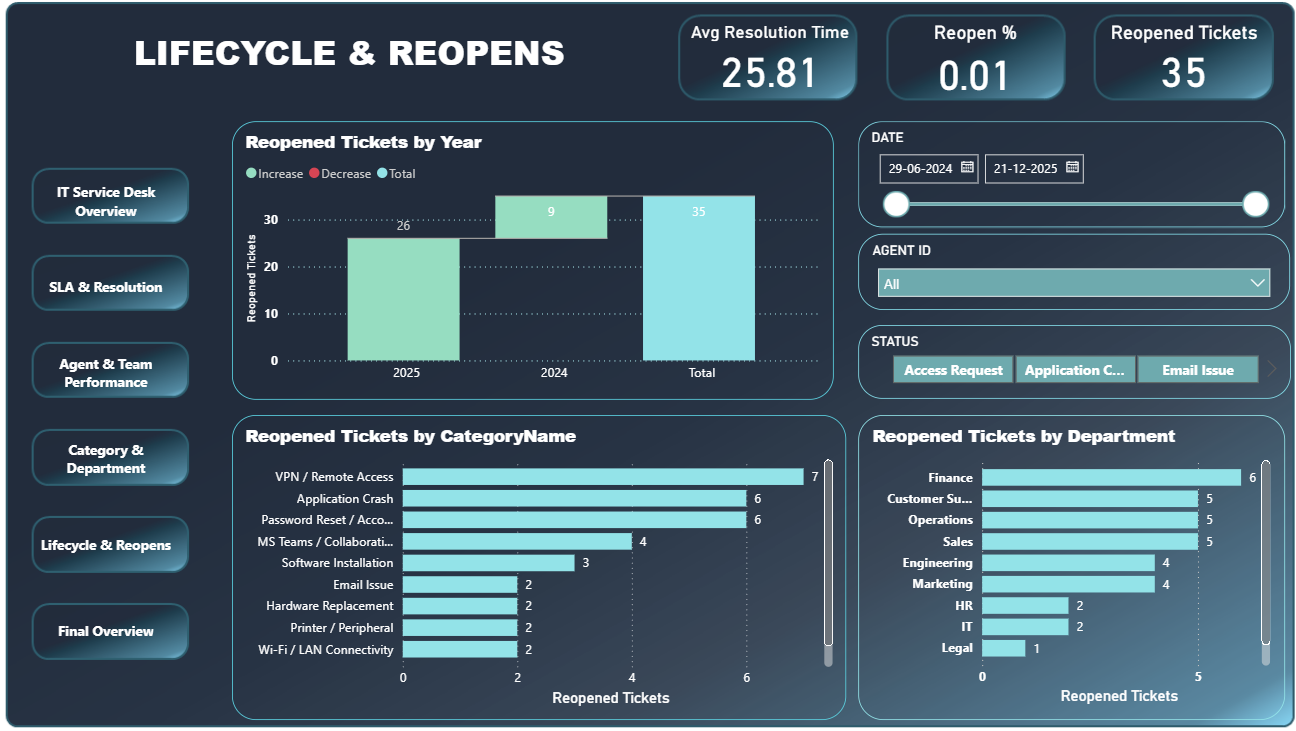

What the dashboard file says about the page in this screenshot:
{"tool":"powerbi","page":{"name":"Lifecycle & Reopens","canvas":[1280,720],"ordinal":4},"visuals":[{"type":"textbox","box":[59.5,32.1,590.5,65.5],"z":0},{"type":"slicer","title":"AGENT ID","fields":{"Values":["Agents.AgentID"]},"box":[845.2,235.7,416.7,73.8],"z":1000},{"type":"slicer","title":"STATUS","fields":{"Values":["Categories.CategoryName"]},"box":[845.2,323.8,417.9,71.4],"z":2000},{"type":"card","title":"Reopened Tickets","fields":{"Values":["Measure Table.Reopened Tickets"]},"box":[1081,29.8,158.3,71.4],"z":3000},{"type":"card","title":"Reopen %","fields":{"Values":["Measure Table.Reopen %"]},"box":[879.8,29.8,158.3,76.2],"z":4000},{"type":"card","title":"Avg Resolution Time","fields":{"Values":["Measure Table.Avg Resolution Time"]},"box":[677.4,29.8,167.9,71.4],"z":5000},{"type":"slicer","title":"DATE","fields":{"Values":["Date Table.Date"]},"box":[845.2,126.2,411.9,102.4],"z":6000},{"type":"barChart","fields":{"Category":["Categories.CategoryName"],"Y":["Measure Table.Reopened Tickets"]},"box":[241.7,410.7,592.9,294],"z":7000},{"type":"barChart","fields":{"Category":["Tickets.Department"],"Y":["Measure Table.Reopened Tickets"]},"box":[845.2,410.7,411.9,294],"z":8000},{"type":"pageNavigator","box":[47.6,166.7,145.2,489.3],"z":9000},{"type":"waterfallChart","fields":{"Y":["Measure Table.Reopened Tickets"],"Category":["Date Table.Year"]},"box":[241.7,126.2,581,269],"z":10000}]}

Visuals, with their boxes in screenshot pixels (x1, y1, x2, y2), scaled from the page's 1280x720 canvas onto the 1296x731 screenshot:
textbox: Rect(60, 33, 658, 99)
"AGENT ID" slicer: Rect(856, 239, 1278, 314)
"STATUS" slicer: Rect(856, 329, 1279, 401)
"Reopened Tickets" card: Rect(1095, 30, 1255, 103)
"Reopen %" card: Rect(891, 30, 1051, 108)
"Avg Resolution Time" card: Rect(686, 30, 856, 103)
"DATE" slicer: Rect(856, 128, 1273, 232)
barChart - Categories.CategoryName x Measure Table.Reopened Tickets: Rect(245, 417, 845, 715)
barChart - Tickets.Department x Measure Table.Reopened Tickets: Rect(856, 417, 1273, 715)
pageNavigator: Rect(48, 169, 195, 666)
waterfallChart - Measure Table.Reopened Tickets x Date Table.Year: Rect(245, 128, 833, 401)
